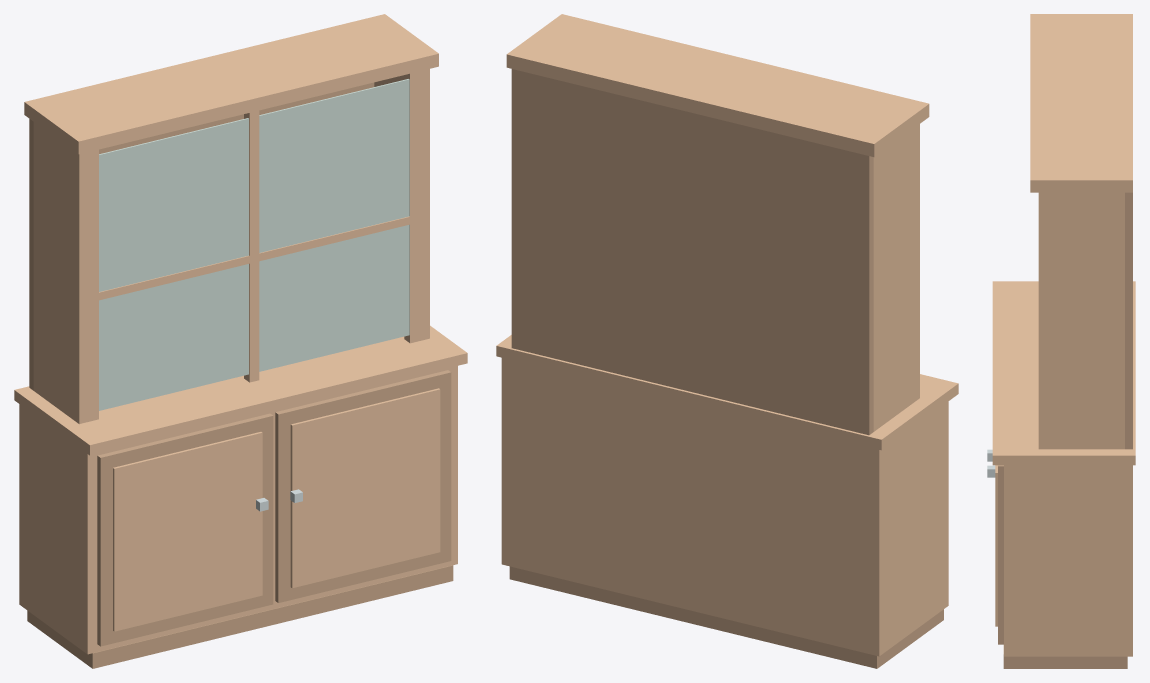
Rendered from chinaHutch.glb.
3 views of the same model, side by side, from view 1: azimuth 30°, elevation 25°; view 2: azimuth 150°, elevation 25°; view 3: azimuth 270°, elevation 25° (orthographic). The views are drawn at different scales.
Parts seen in each view (by area): view 1: chinaHutch; view 2: chinaHutch; view 3: chinaHutch.
Part boxes in pixels (x1=…): chinaHutch: x1=14, y1=14, x2=467, y2=668; chinaHutch: x1=496, y1=14, x2=958, y2=668; chinaHutch: x1=987, y1=14, x2=1135, y2=668.
Size of the model in its own units: 0.765 by 1 by 0.275.
